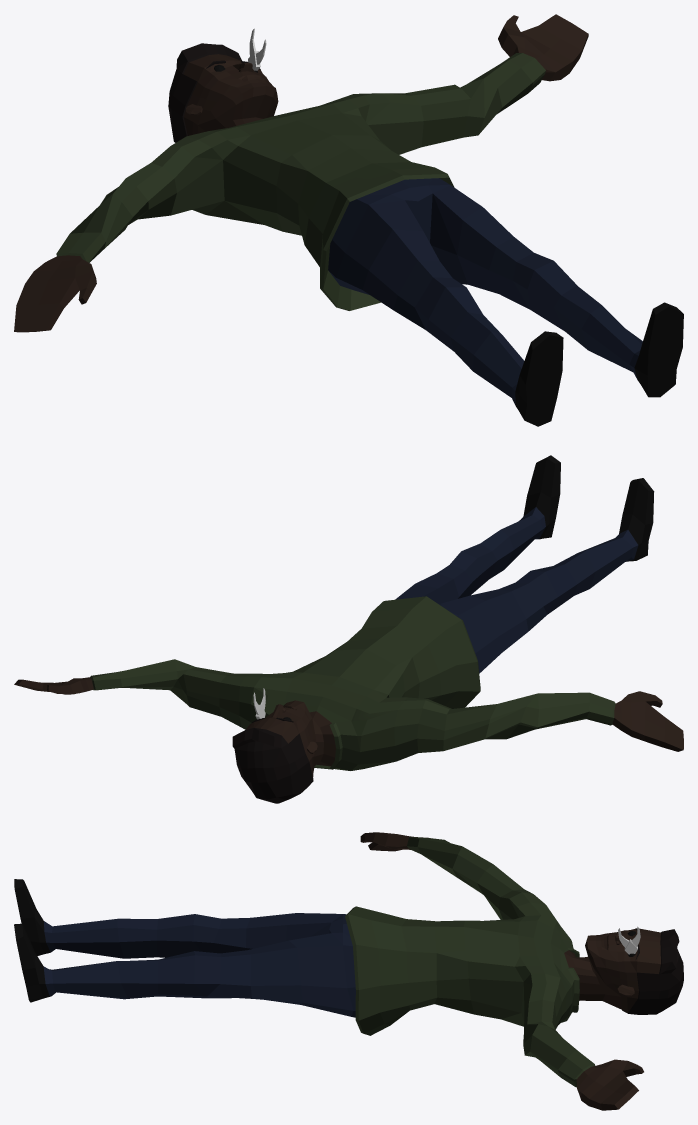
3 views of the same model, one above another, from view 1: azimuth 30°, elevation 25°; view 2: azimuth 150°, elevation 25°; view 3: azimuth 270°, elevation 25° (orthographic). The views are drawn at different scales.
Parts seen in each view (by area): view 1: BaseHuman; view 2: BaseHuman; view 3: BaseHuman.
Boxes of the visible parts, x1=… form: BaseHuman: x1=14, y1=14, x2=683, y2=426; BaseHuman: x1=14, y1=455, x2=683, y2=803; BaseHuman: x1=14, y1=832, x2=683, y2=1110.
Size of the model in its own units: 4.76 by 0.9551 by 4.91.
